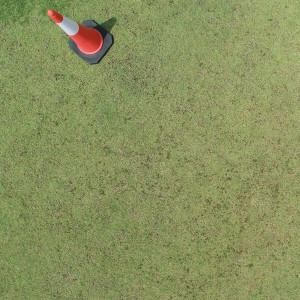traffic cone: (48, 10, 113, 65)
